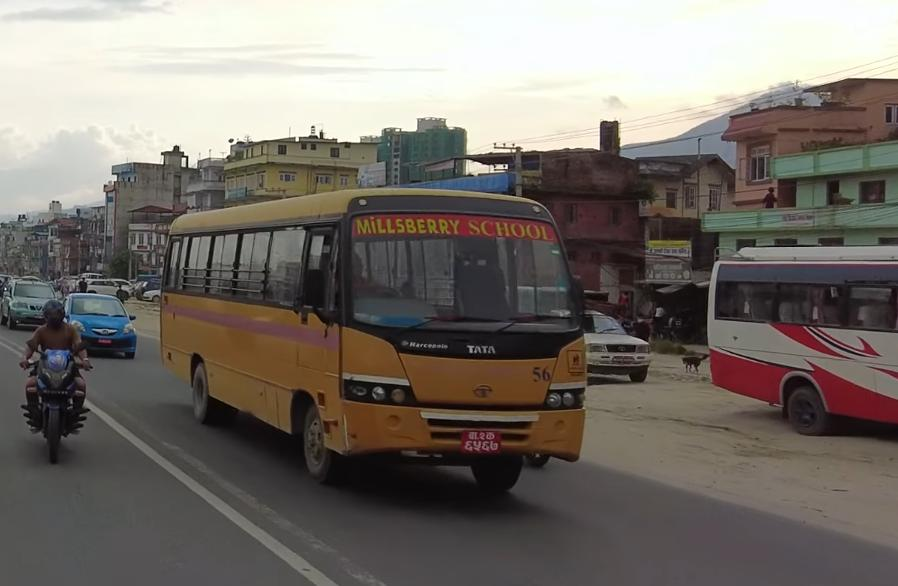bike: (16, 337, 94, 469)
bus: (702, 240, 898, 442)
car: (61, 291, 142, 363)
school_bus: (154, 185, 589, 500)
